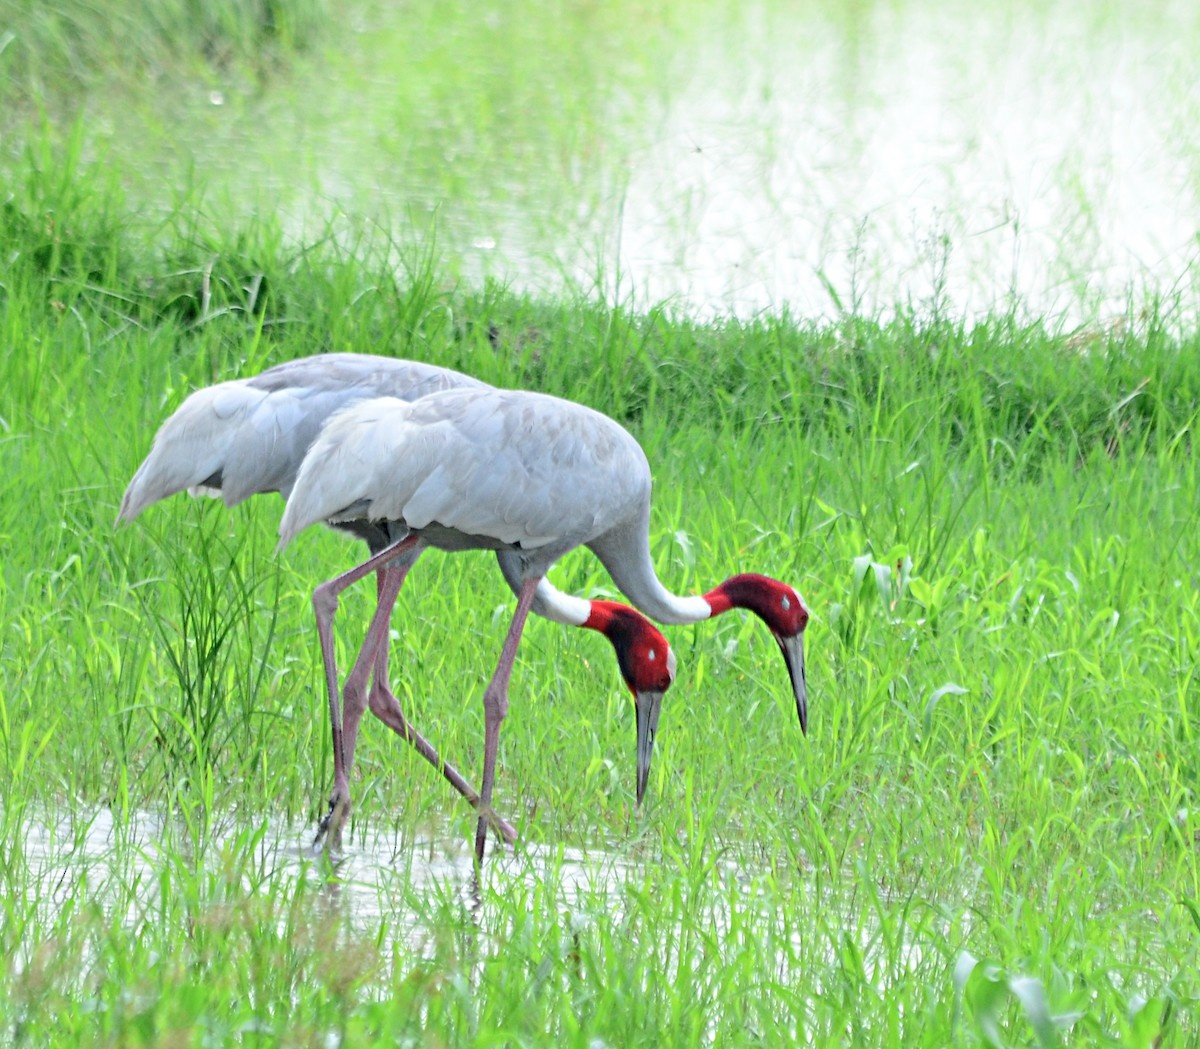crane: (151, 333, 844, 868), (542, 572, 692, 804)
